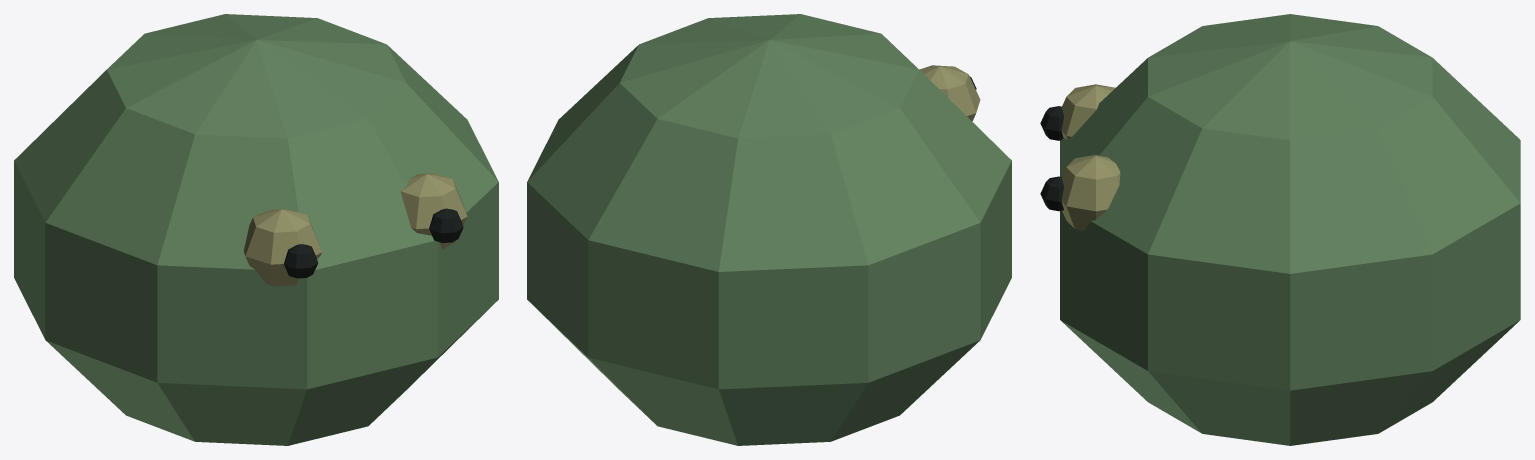
File: SM_Monster_10001_Gloop.glb
3 renders of one model, left to right at view 1: azimuth 30°, elevation 25°; view 2: azimuth 150°, elevation 25°; view 3: azimuth 270°, elevation 25°, orthographic.
Parts seen in each view (by area): view 1: SM_Monster_10001_Gloop; view 2: SM_Monster_10001_Gloop; view 3: SM_Monster_10001_Gloop.
Part boxes in pixels (x1=…): SM_Monster_10001_Gloop: x1=14, y1=14, x2=498, y2=445; SM_Monster_10001_Gloop: x1=527, y1=14, x2=1011, y2=445; SM_Monster_10001_Gloop: x1=1040, y1=14, x2=1520, y2=445.
Bounding box in the file's own units: 1.05 × 0.9 × 1.04.
